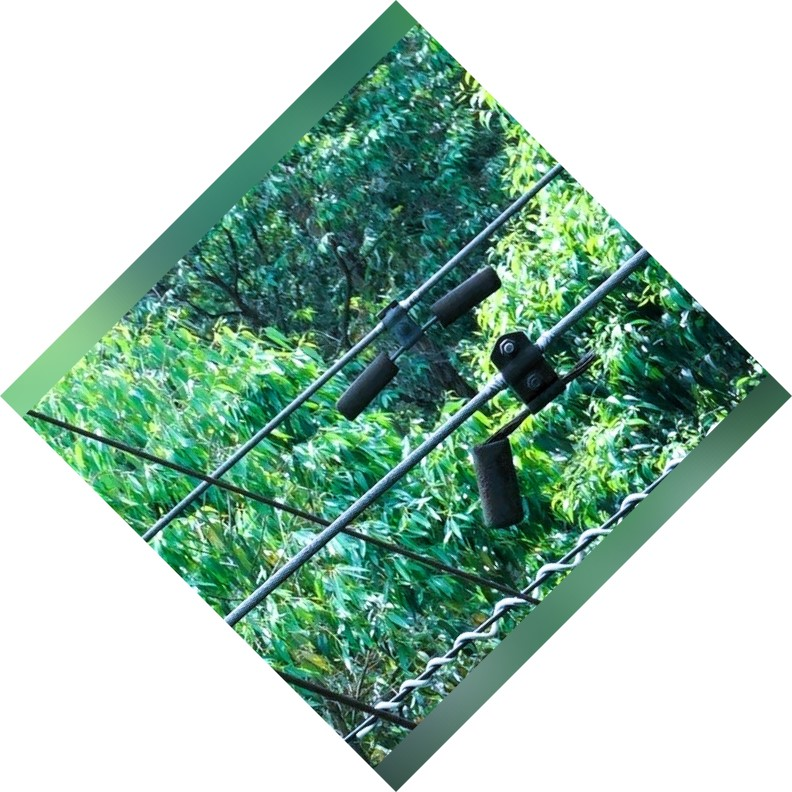Damage of shockproof hammer: (425, 320, 622, 561)
